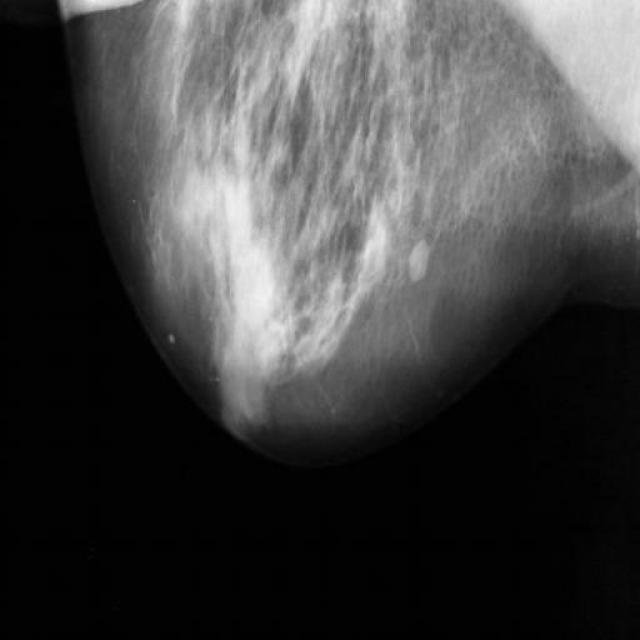cancer: (395, 214, 437, 315)
